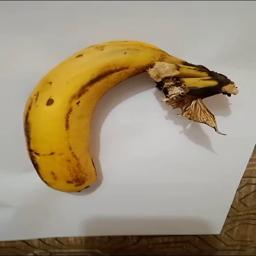Banana Semifresh: (20, 36, 239, 201)
